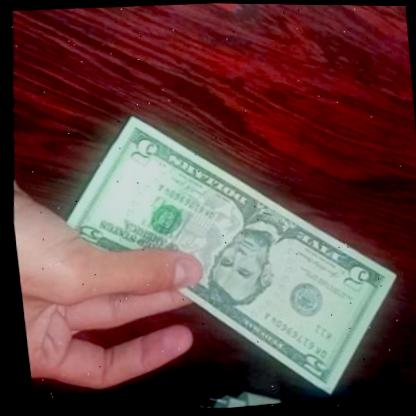five-front: (29, 81, 416, 416)
